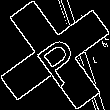P_NW: (25, 24, 85, 86)
